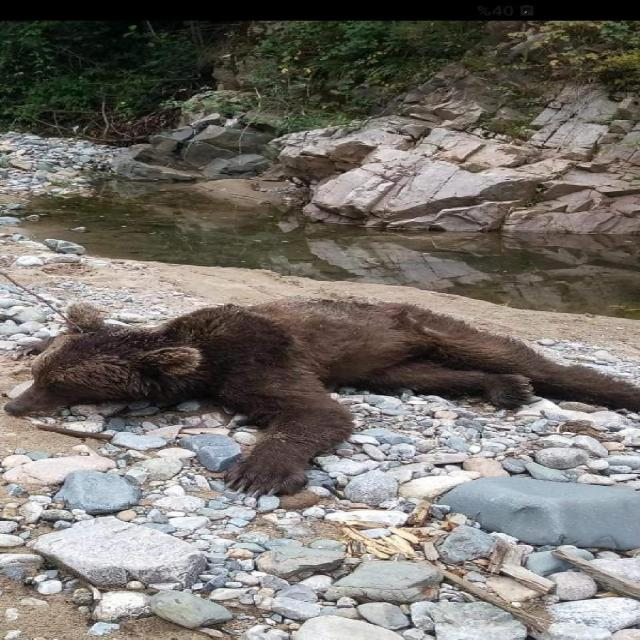Bear: (9, 299, 640, 498)
